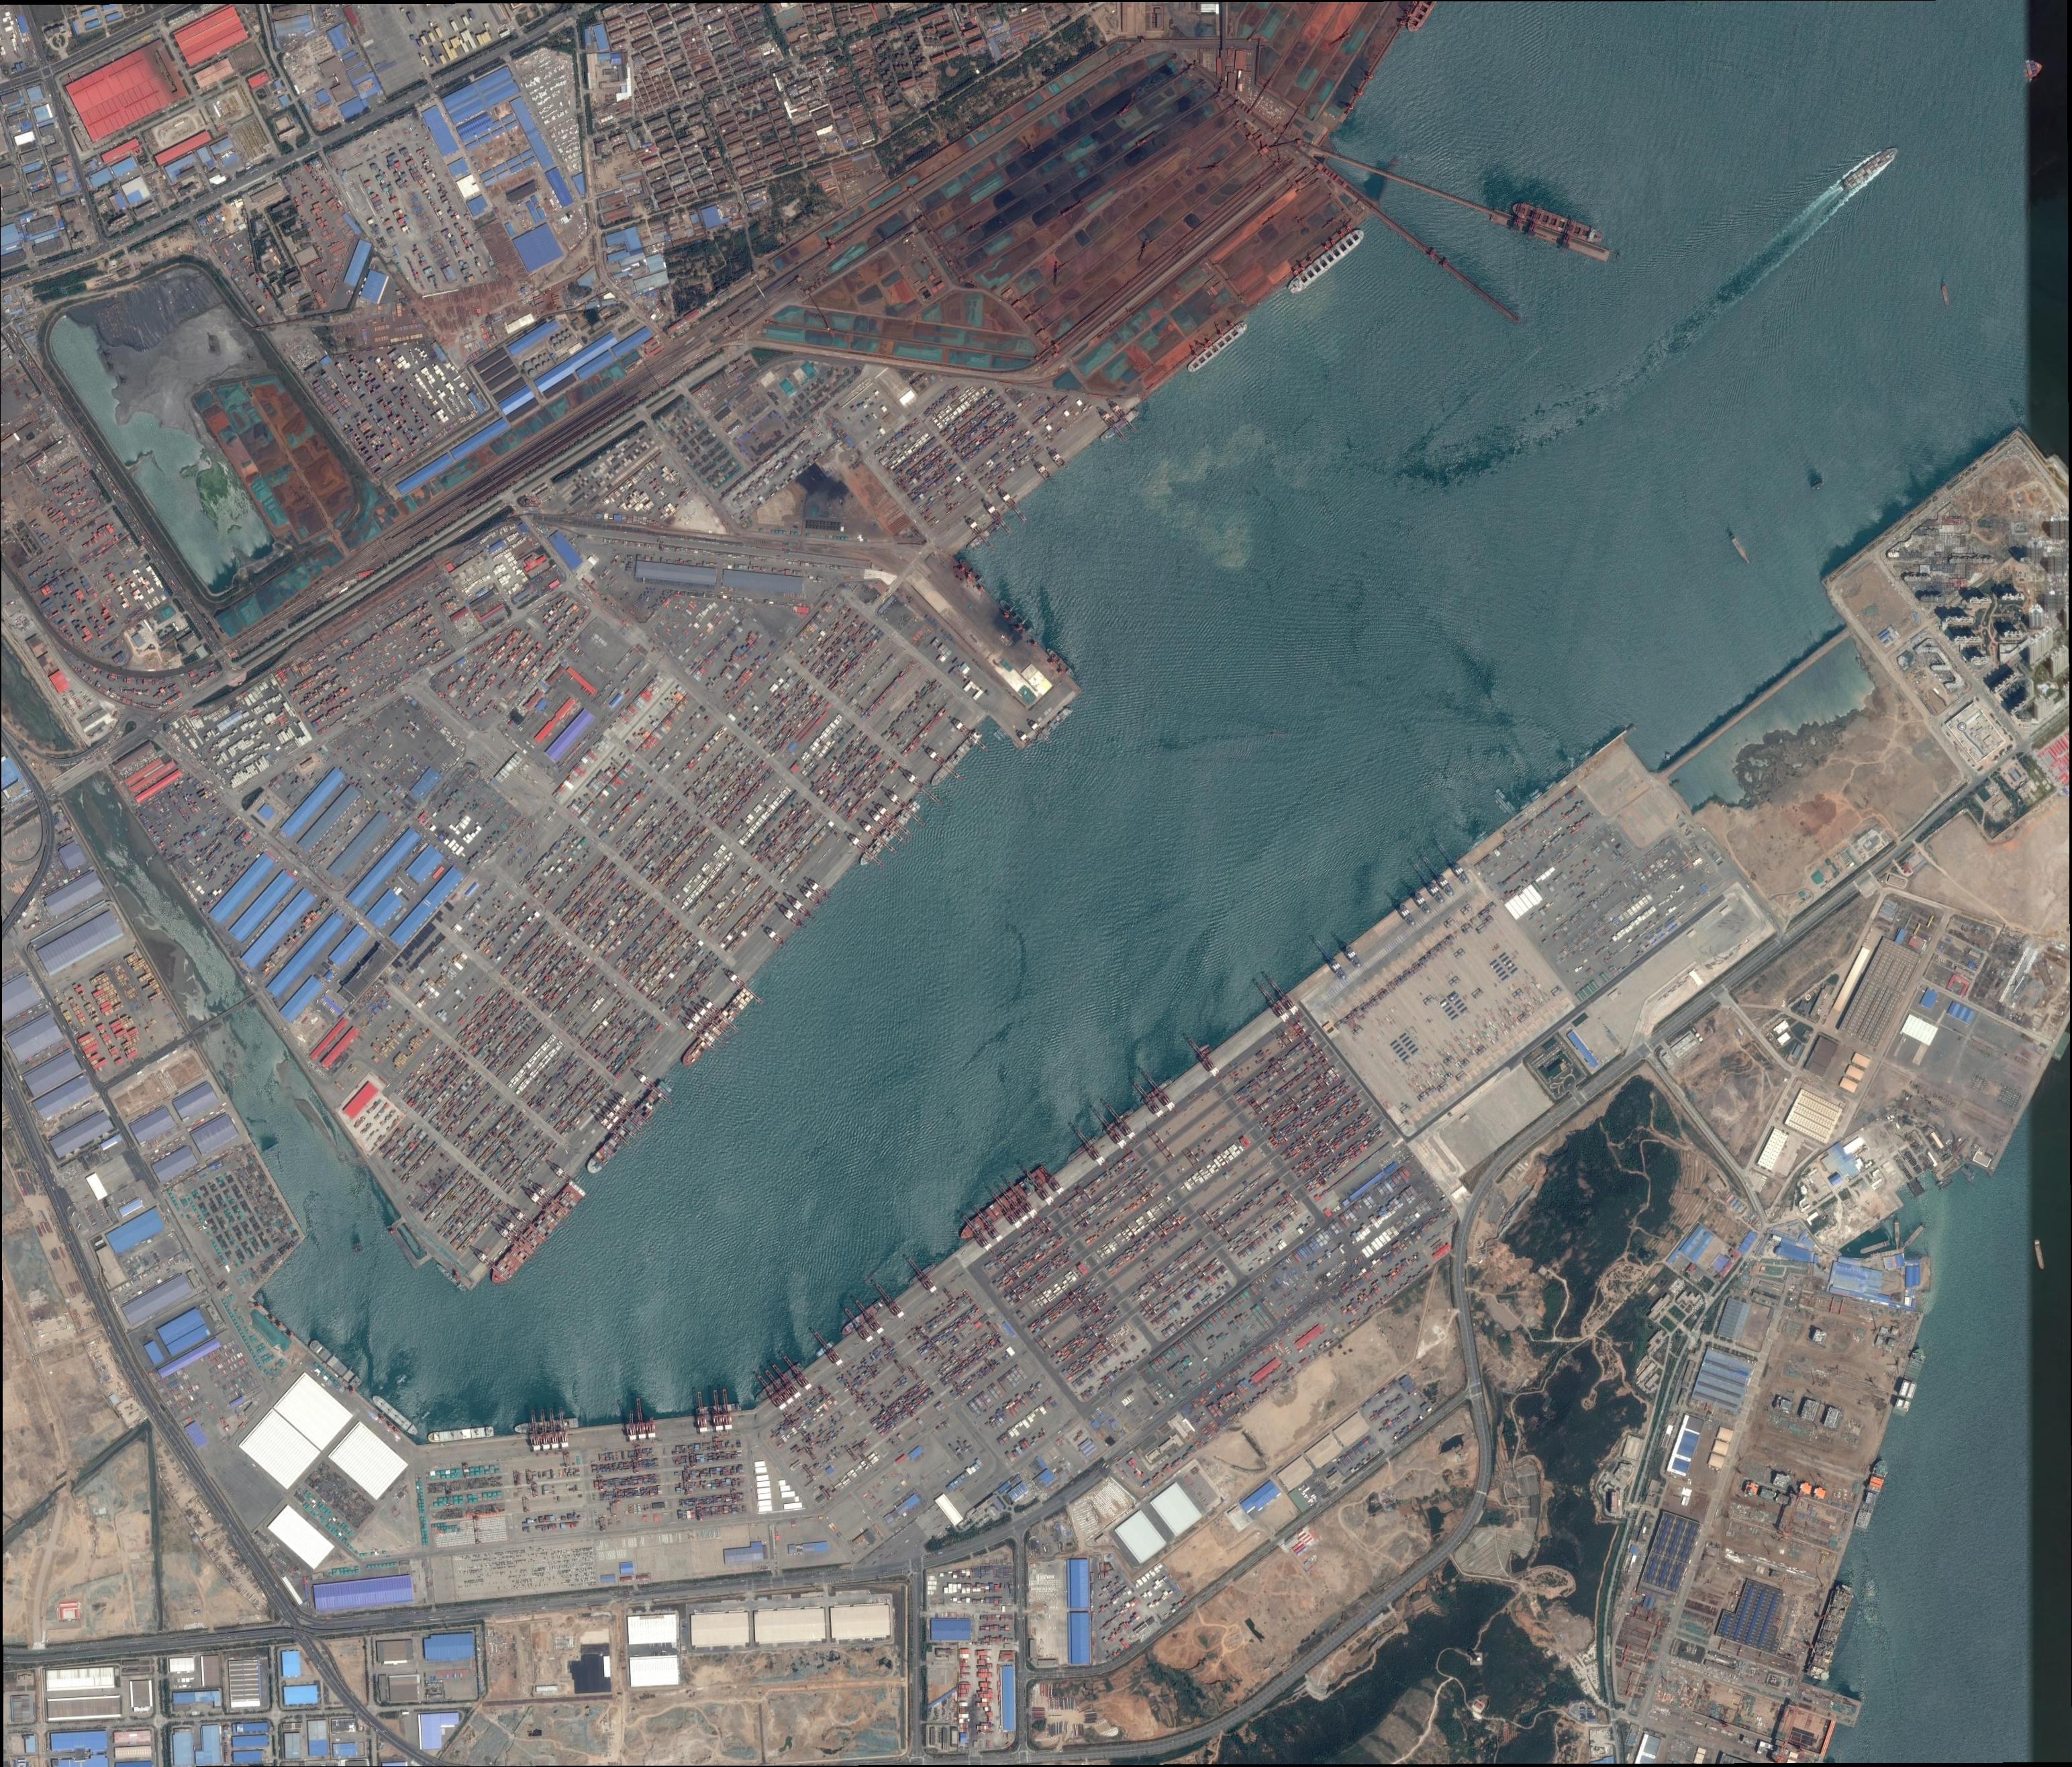harbor: (1313, 142, 1621, 268), (1371, 207, 1522, 323), (1494, 792, 1516, 817)
ship: (487, 1180, 587, 1288), (582, 1080, 673, 1178), (957, 1166, 1052, 1245), (678, 989, 754, 1068), (1285, 226, 1367, 296), (1804, 1581, 1855, 1681), (1509, 198, 1606, 249), (855, 798, 922, 869), (1185, 321, 1250, 375), (929, 729, 983, 789), (307, 1338, 365, 1390), (1842, 144, 1902, 191), (1891, 1345, 1928, 1416), (1855, 1457, 1891, 1529), (370, 1394, 421, 1437), (754, 1362, 805, 1404), (841, 1295, 889, 1338), (997, 598, 1038, 640), (1099, 407, 1138, 444), (1036, 706, 1071, 743), (966, 519, 1003, 552), (428, 1425, 494, 1443), (515, 1416, 578, 1434), (435, 1262, 468, 1294), (1045, 645, 1076, 677), (1141, 1076, 1176, 1104), (1068, 1136, 1099, 1162), (1104, 1108, 1134, 1134), (908, 1262, 938, 1287), (959, 557, 983, 582), (696, 1402, 742, 1415), (1732, 536, 1751, 564), (2053, 1033, 2070, 1062), (1858, 1239, 1890, 1255), (1904, 1225, 1923, 1248), (2033, 1239, 2046, 1271), (815, 1339, 836, 1357), (1941, 286, 1949, 307), (1544, 780, 1557, 791), (1518, 801, 1530, 812), (1895, 1222, 1900, 1245), (1495, 789, 1506, 799), (1530, 792, 1543, 801), (1529, 789, 1541, 798), (1508, 801, 1516, 812), (1499, 805, 1508, 815)
